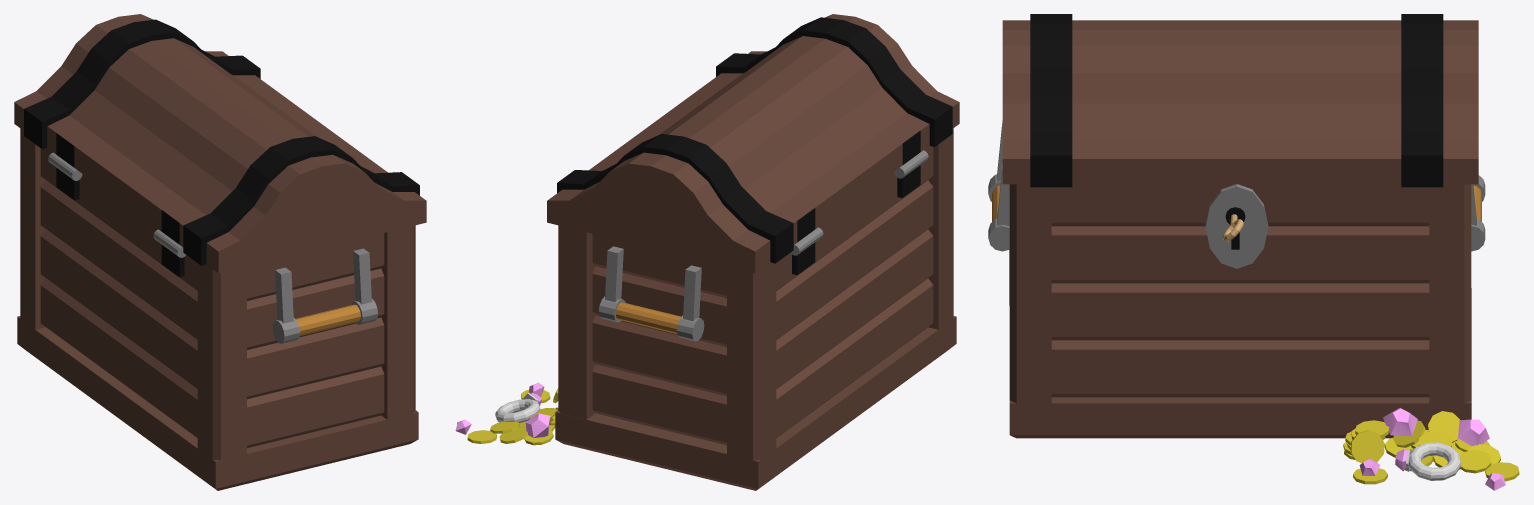
The picture shows the model from 3 angles, left to right: view 1: azimuth 30°, elevation 25°; view 2: azimuth 150°, elevation 25°; view 3: azimuth 270°, elevation 25°; orthographic projection. The views are drawn at different scales.
Parts seen in each view (by area): view 1: node_MeshObject1386486784-PolyPaper20, node_MeshObject814407680-PolyPaper21; view 2: node_MeshObject1386486784-PolyPaper20, node_MeshObject814407680-PolyPaper21, node_MeshObject-1764322304-PolyGem25; view 3: node_MeshObject1386486784-PolyPaper20, node_MeshObject814407680-PolyPaper21, node_MeshObject-1764322304-PolyGem25.
Part boxes in pixels (x1=…): node_MeshObject1386486784-PolyPaper20: x1=14, y1=14, x2=426, y2=490; node_MeshObject814407680-PolyPaper21: x1=20, y1=128, x2=419, y2=460; node_MeshObject1386486784-PolyPaper20: x1=467, y1=14, x2=959, y2=490; node_MeshObject814407680-PolyPaper21: x1=716, y1=17, x2=953, y2=460; node_MeshObject-1764322304-PolyGem25: x1=455, y1=382, x2=550, y2=437; node_MeshObject1386486784-PolyPaper20: x1=988, y1=14, x2=1519, y2=484; node_MeshObject814407680-PolyPaper21: x1=1009, y1=14, x2=1072, y2=305; node_MeshObject-1764322304-PolyGem25: x1=1359, y1=408, x2=1505, y2=490.
Size of the model in its own units: 0.5708 by 0.5715 by 0.7587.
